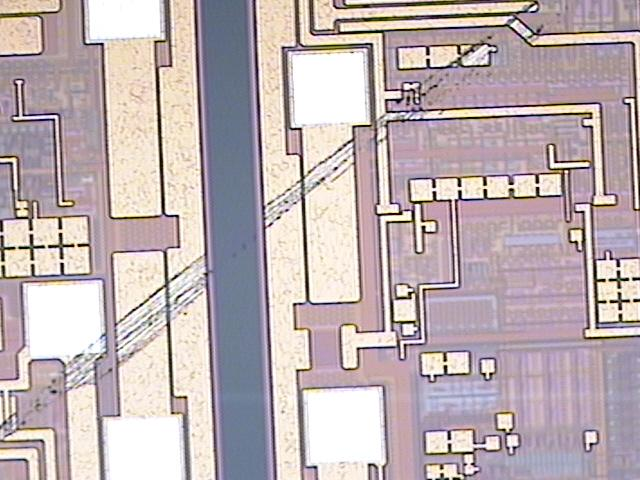SCRATCH: (1, 1, 580, 451)
